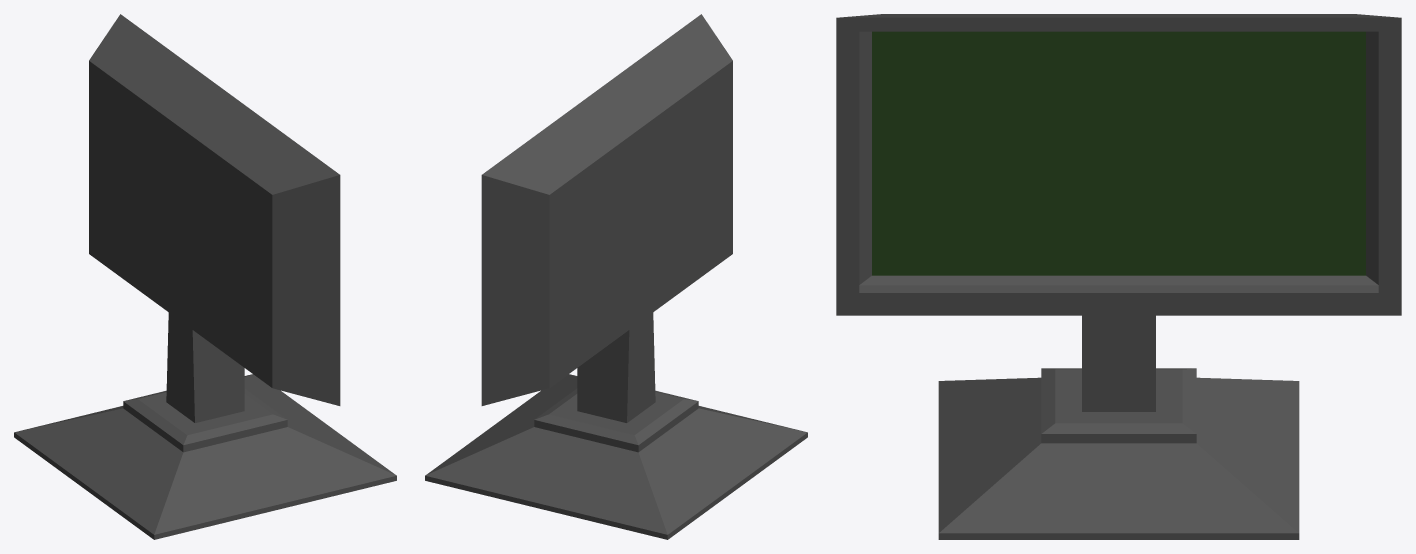
Rendered from Monitor1.fbx.
The picture shows the model from 3 angles, left to right: view 1: azimuth 30°, elevation 25°; view 2: azimuth 150°, elevation 25°; view 3: azimuth 270°, elevation 25°; orthographic projection. The views are drawn at different scales.
Visible parts, largest first — view 1: Cube; view 2: Cube; view 3: Plane, Cube.
Part boxes in pixels (x1,y1,x2,y2): Cube: [14, 14, 396, 539]; Cube: [425, 14, 807, 539]; Plane: [872, 31, 1365, 275]; Cube: [836, 14, 1401, 539].
Size of the model in its own units: 200 by 282 by 314.
